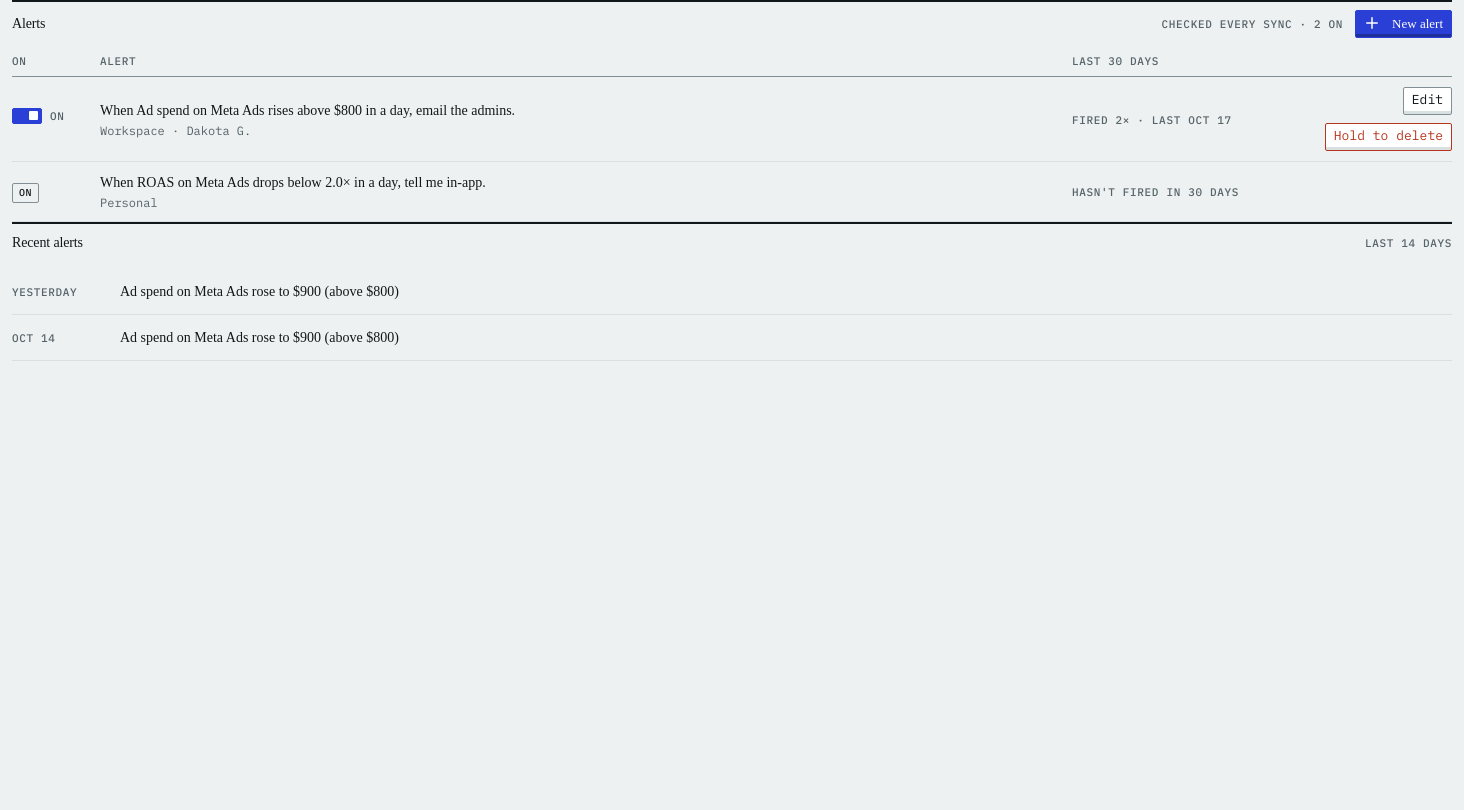
AlertsPanel › flags a bad threshold on its slot after leaving it
This screenshot has width=1464, height=810.
Step 1. Click the button "New alert" → click(1404, 24), box [1355,10,1452,38]
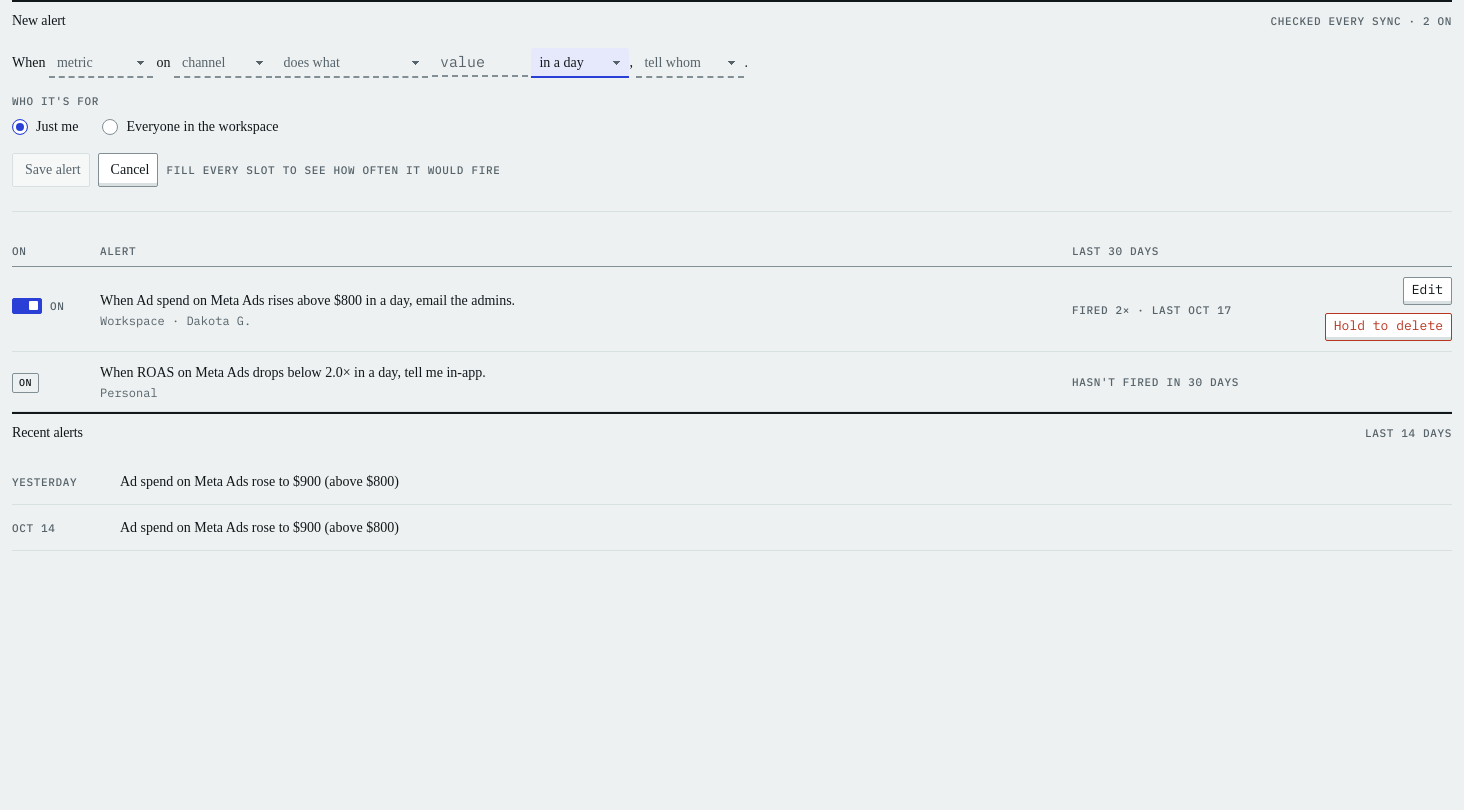
Step 2. Type "0" into the number field named "Threshold" → (480, 62), box [432,47,528,77]
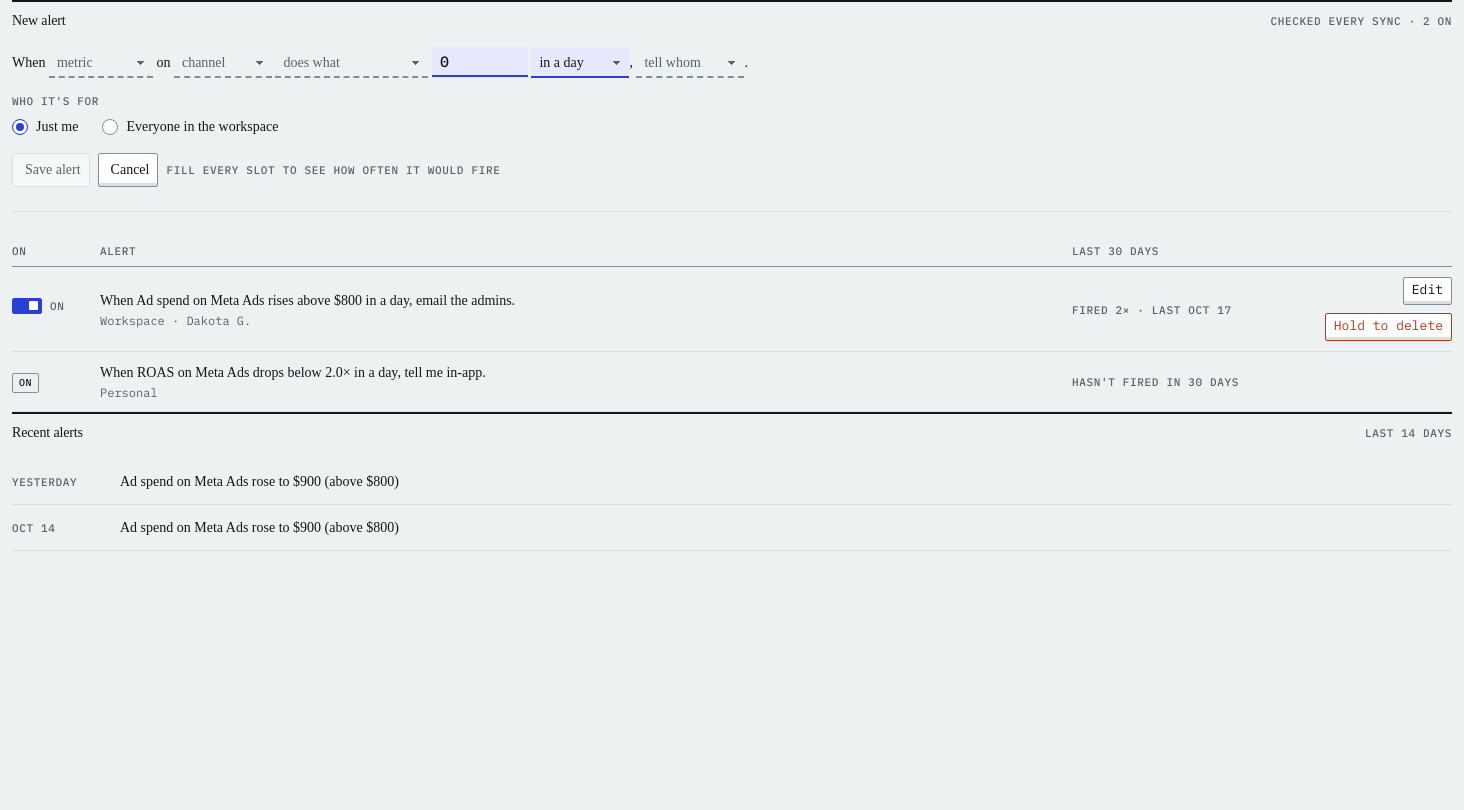
Step 3. Leave the number field named "Threshold", box [432,47,528,77]
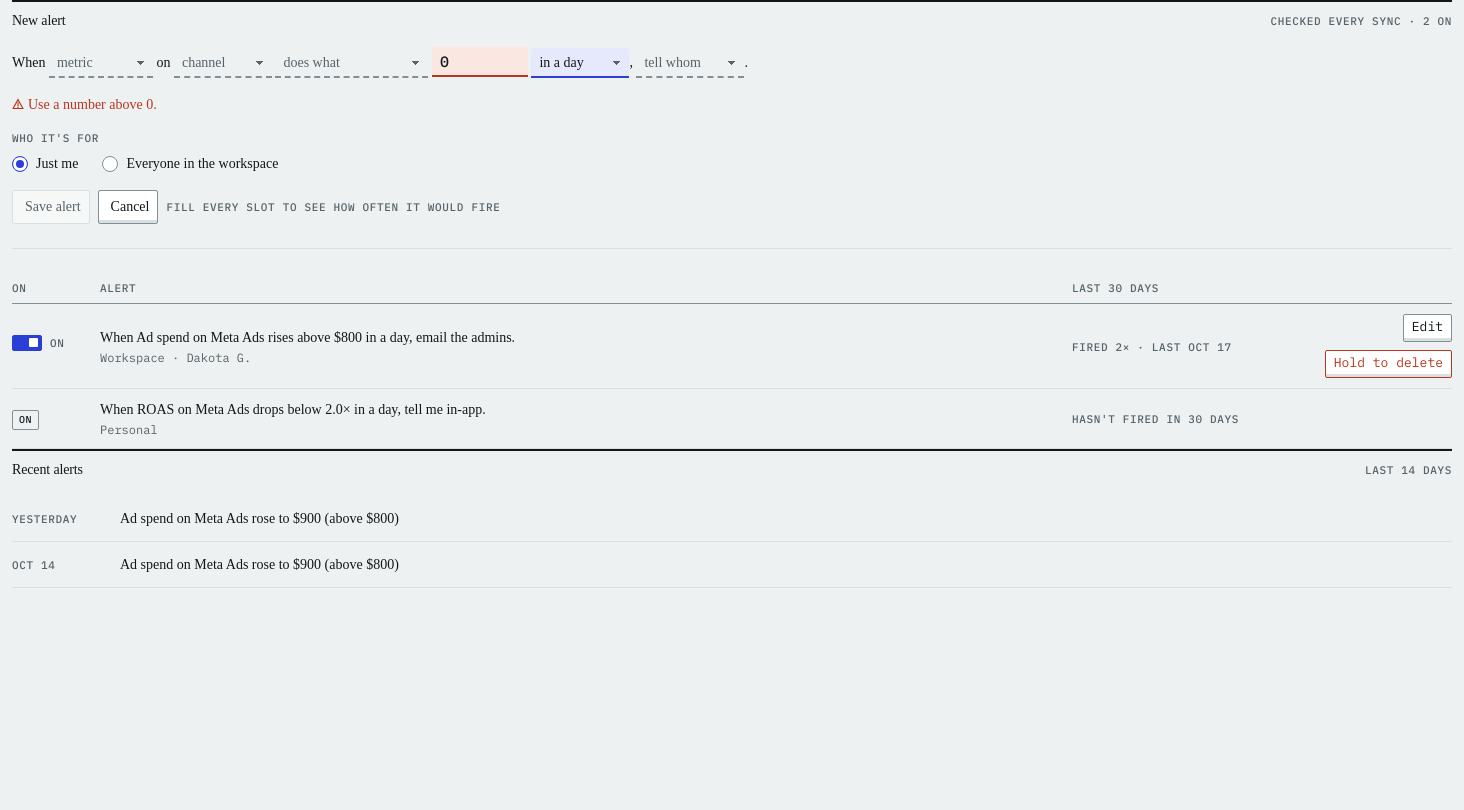
Expected: the text "Use a number above 0." is shown, [12,97,157,112]
